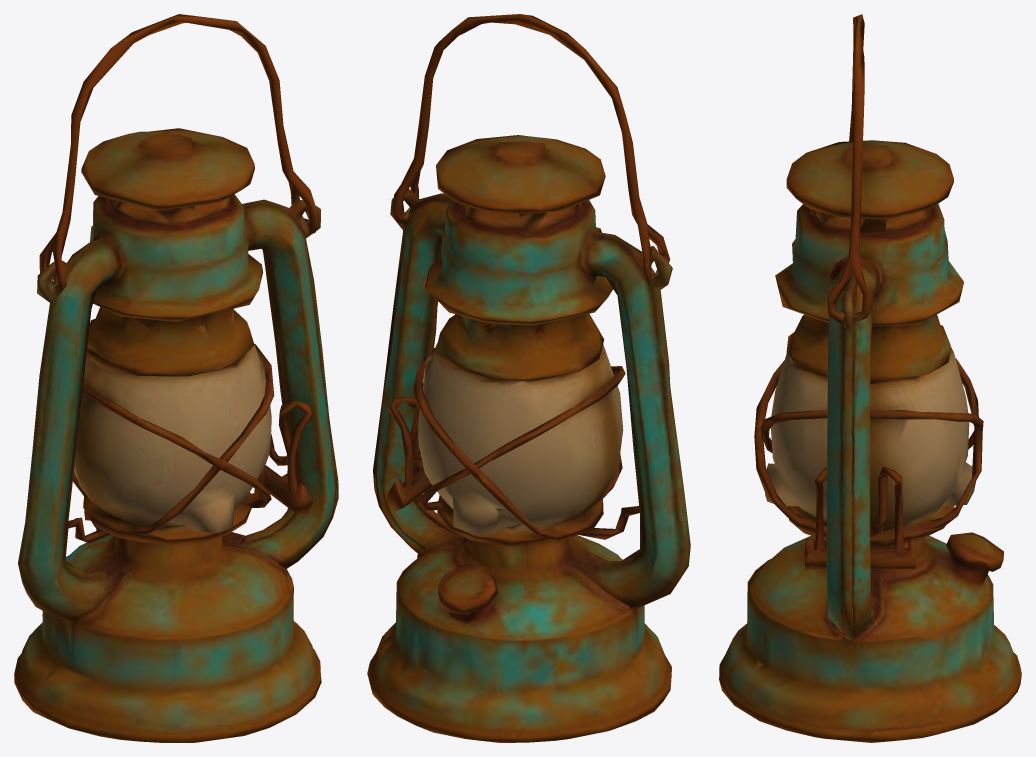
Rendered from wpn_lantern.glb.
3 views of the same model, side by side, from view 1: azimuth 30°, elevation 25°; view 2: azimuth 150°, elevation 25°; view 3: azimuth 270°, elevation 25° (orthographic). The views are drawn at different scales.
Visible parts, largest first — view 1: tripo_node_3edf32d8-8870-4f9b-b521-935ba2a4d5ec_0; view 2: tripo_node_3edf32d8-8870-4f9b-b521-935ba2a4d5ec_0; view 3: tripo_node_3edf32d8-8870-4f9b-b521-935ba2a4d5ec_0.
Part boxes in pixels (x1,y1,x2,y2): tripo_node_3edf32d8-8870-4f9b-b521-935ba2a4d5ec_0: (14, 14, 338, 742); tripo_node_3edf32d8-8870-4f9b-b521-935ba2a4d5ec_0: (367, 14, 690, 742); tripo_node_3edf32d8-8870-4f9b-b521-935ba2a4d5ec_0: (719, 14, 1021, 742).
Bounding box in the file's own units: 0.4932 × 1 × 0.4153.
1 material, 1 textured.
